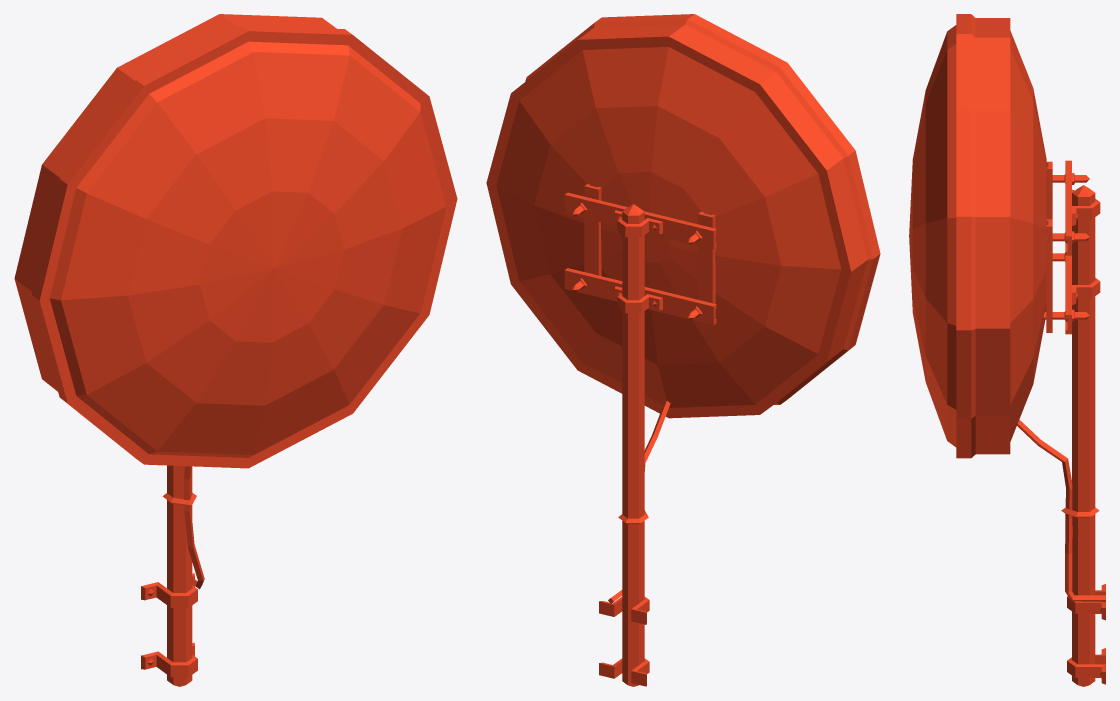
Rendered from SM_Satellite_D_City.fbx.
3 views of the same model, side by side, from view 1: azimuth 30°, elevation 25°; view 2: azimuth 150°, elevation 25°; view 3: azimuth 270°, elevation 25° (orthographic). The views are drawn at different scales.
Parts seen in each view (by area): view 1: SM_Satellite_D_City; view 2: SM_Satellite_D_City; view 3: SM_Satellite_D_City.
Boxes of the visible parts, x1,y1,x2,y2 form: SM_Satellite_D_City: (14, 14, 457, 686); SM_Satellite_D_City: (486, 14, 880, 686); SM_Satellite_D_City: (909, 14, 1105, 686).
Size of the model in its own units: 1.03 by 1.66 by 0.4538.
